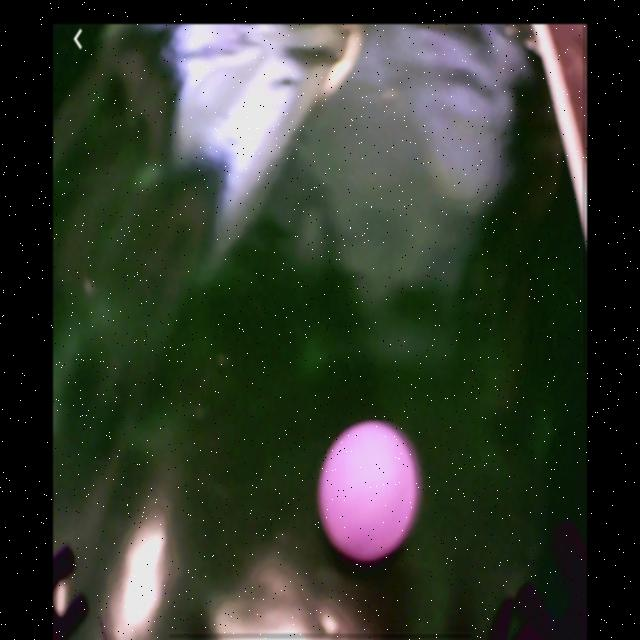ball: (318, 420, 421, 563)
